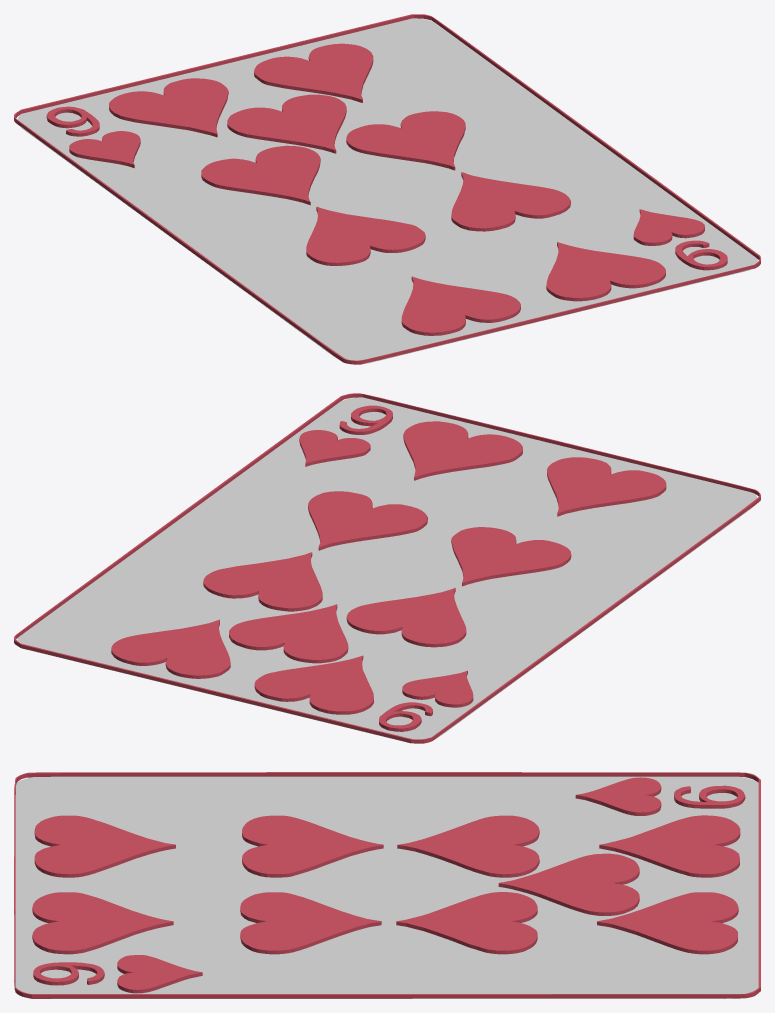
Rendered from 9_hearts.glb.
3 renders of one model, top to bottom at view 1: azimuth 30°, elevation 25°; view 2: azimuth 150°, elevation 25°; view 3: azimuth 270°, elevation 25°, orthographic. The views are drawn at different scales.
Parts seen in each view (by area): view 1: Mesh_Mesh_head_geo.001_lambert2SG.001; view 2: Mesh_Mesh_head_geo.001_lambert2SG.001; view 3: Mesh_Mesh_head_geo.001_lambert2SG.001.
Boxes of the visible parts, bbox=[...] form: Mesh_Mesh_head_geo.001_lambert2SG.001: bbox=[14, 14, 760, 364]; Mesh_Mesh_head_geo.001_lambert2SG.001: bbox=[14, 393, 760, 743]; Mesh_Mesh_head_geo.001_lambert2SG.001: bbox=[14, 772, 760, 998].
Size of the model in its own units: 1.2 by 0.01 by 1.7.
